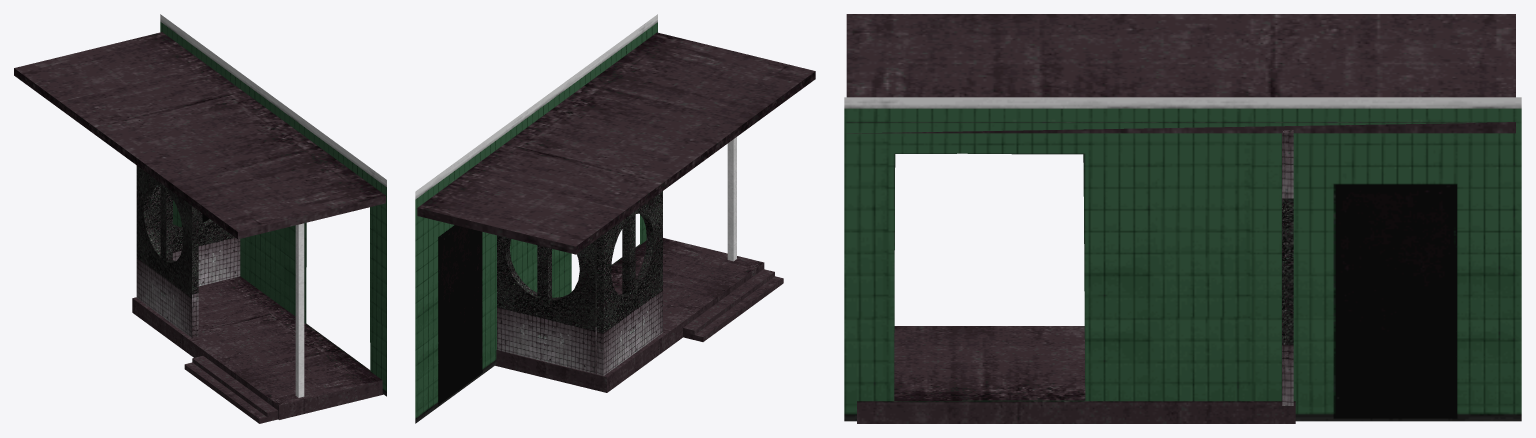
File: domAuth.fbx
The picture shows the model from 3 angles, left to right: view 1: azimuth 30°, elevation 25°; view 2: azimuth 150°, elevation 25°; view 3: azimuth 270°, elevation 25°; orthographic projection. The views are drawn at different scales.
Parts seen in each view (by area): view 1: etaj.008; view 2: etaj.008; view 3: etaj.008.
Part boxes in pixels (x1,y1,x2,y2): etaj.008: (14, 14, 386, 423); etaj.008: (415, 14, 815, 423); etaj.008: (844, 14, 1521, 423).
Bounding box in the file's own units: 314 × 431 × 813.
Materials: 1 (1 with a texture image).
